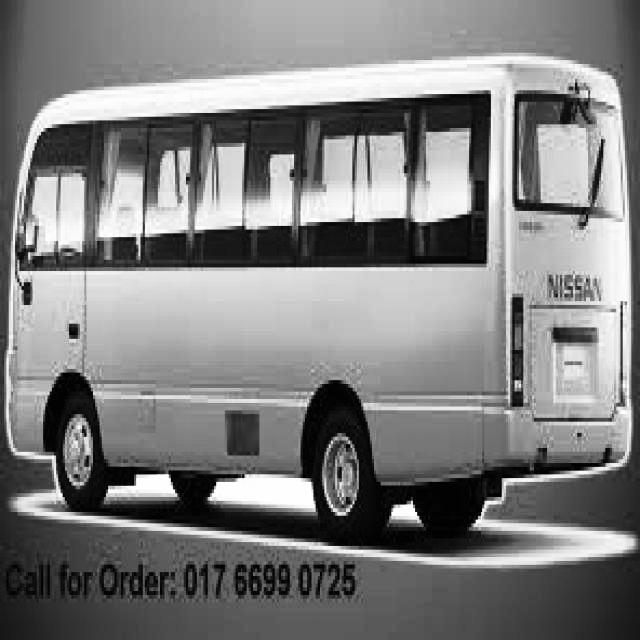Bus: (0, 43, 637, 555)
